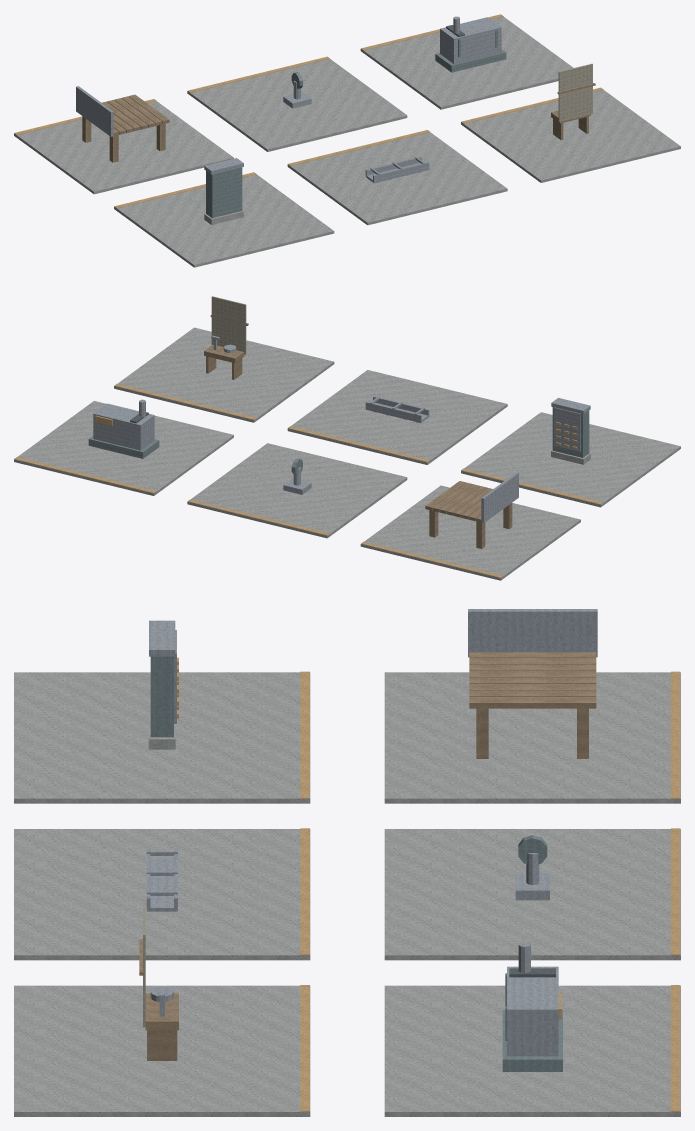
Rendered from level_blockout_kit_wld_06_p01.glb.
3 renders of one model, top to bottom at view 1: azimuth 30°, elevation 25°; view 2: azimuth 150°, elevation 25°; view 3: azimuth 270°, elevation 25°, orthographic. The views are drawn at different scales.
Visible parts, largest first — view 1: level_blockout_kit_wld_06_p01; view 2: level_blockout_kit_wld_06_p01; view 3: level_blockout_kit_wld_06_p01.
Part boxes in pixels (left/top/right/bottom): level_blockout_kit_wld_06_p01: left=14, top=14, right=680, bottom=267; level_blockout_kit_wld_06_p01: left=14, top=296, right=680, bottom=580; level_blockout_kit_wld_06_p01: left=14, top=609, right=680, bottom=1116.
Size of the model in its own units: 19.65 by 2.79 by 12.6.
7 materials, 7 textured.
